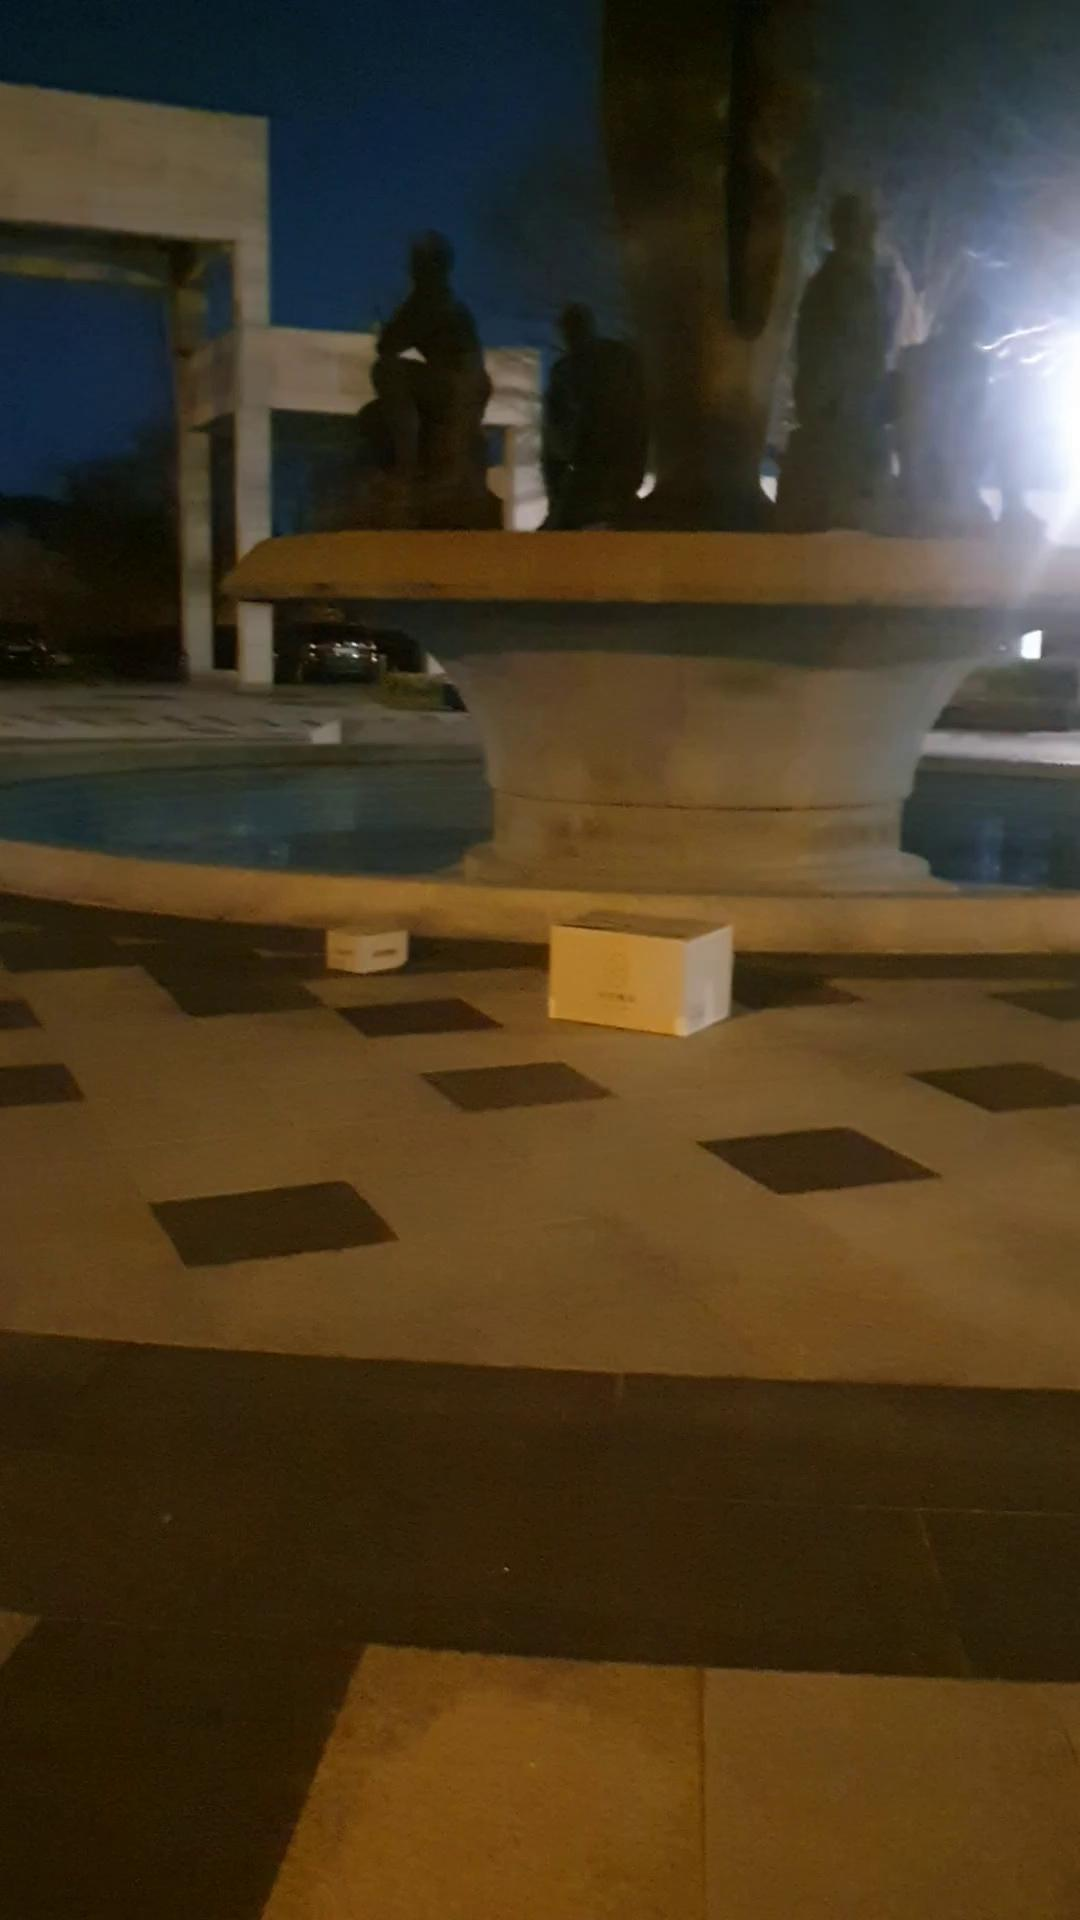Box: (526, 890, 742, 1055), (323, 909, 410, 990)
